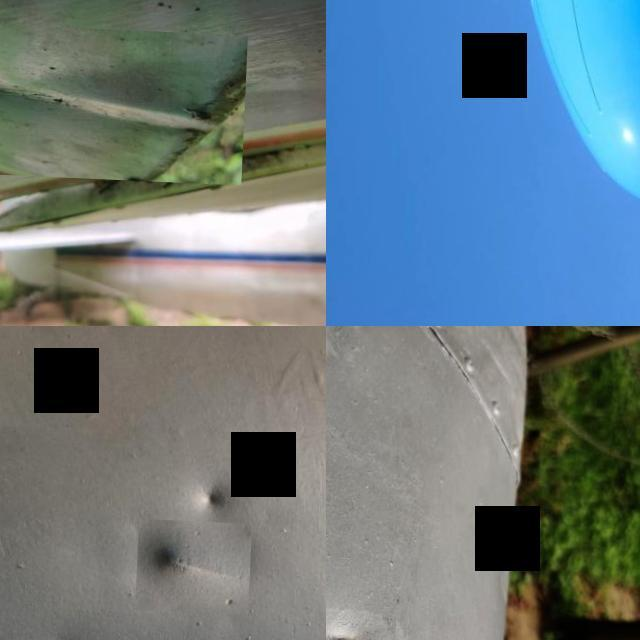Dent: (0, 17, 250, 181), (139, 516, 255, 612), (180, 468, 247, 536), (326, 584, 400, 640)
